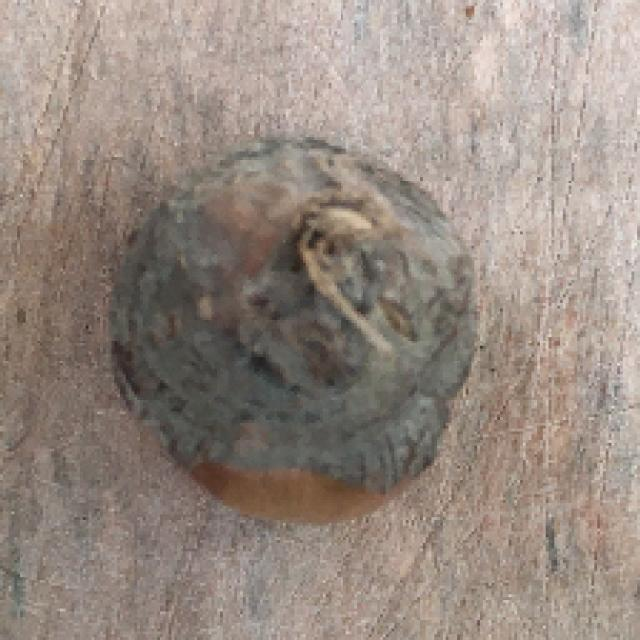damagedHazelnut: (99, 134, 490, 531)
